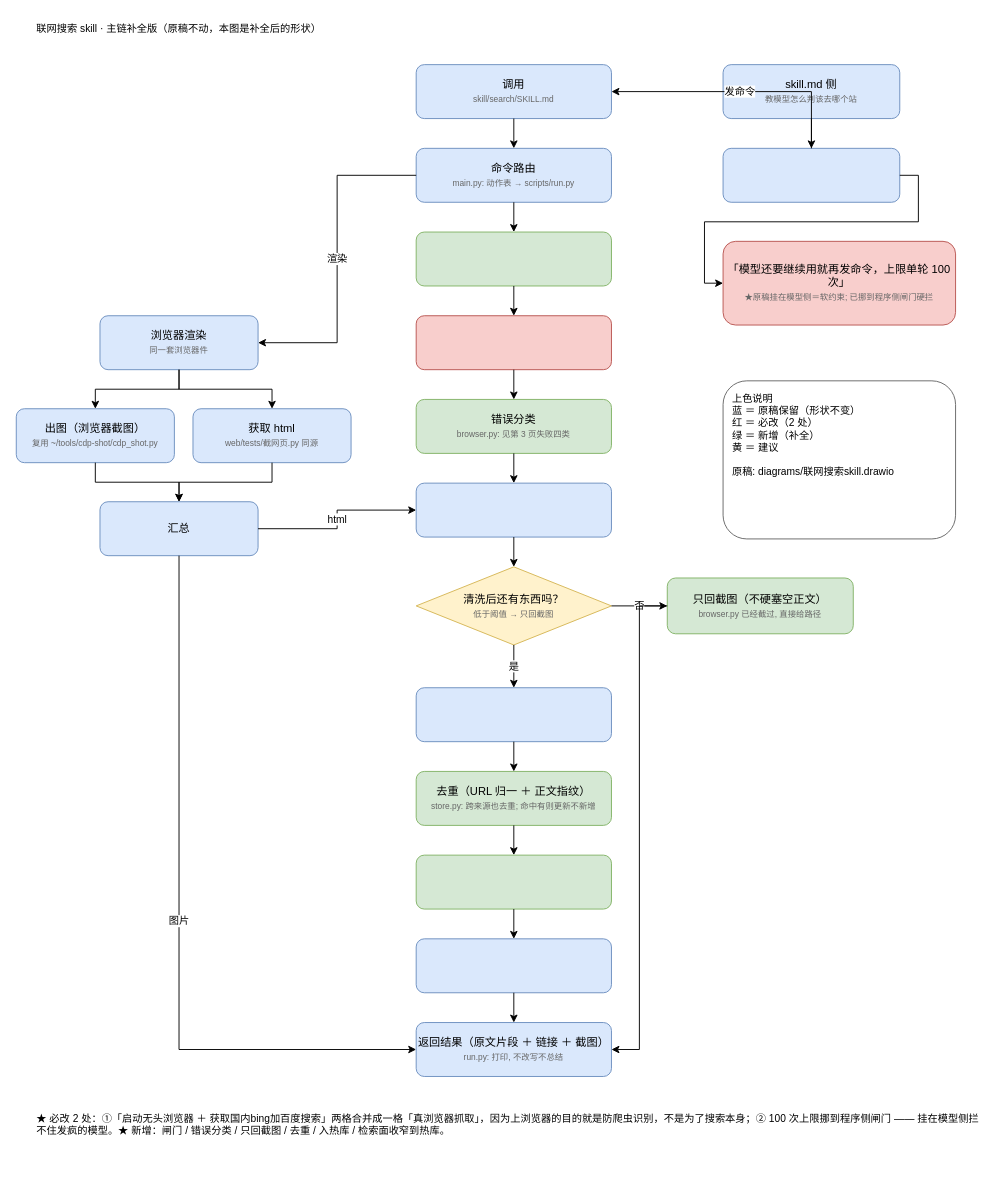
This 1000x1196 diagram has some shape labels left out. The shapes that lost their labels are listed below. From the top down, each one's centre as x and y in pixels, then its label:
the point at 811,174: 判断需要哪个网页 模型侧判断
the point at 513,258: ★闸门 单轮 ≤100 次 ＋ 体积上限 run.py: 先过闸, 不通过直接回原因
the point at 513,342: 真浏览器抓取（bing ＋ 百度） scripts/browser.py: 防爬虫识别＝用真浏览器; 常驻 + 闲置看门狗
the point at 513,509: 程序清洗（HTML → 标题 ＋ 正文段落） scripts/article.py（已写好, 直接复用）
the point at 513,714: 切片 借 rag 的 chunker.py, 不另写
the point at 513,881: 入热库 表 search_hot（第 2 页）；热是一份, 不分来源
the point at 513,965: 检索 —— 只搜热的 借 rag 的向量＋倒排那两路
